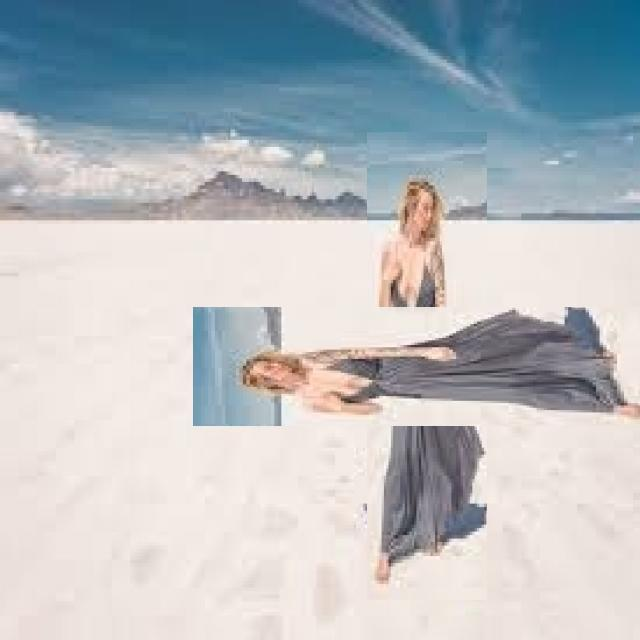NotFall: (130, 239, 563, 462)
